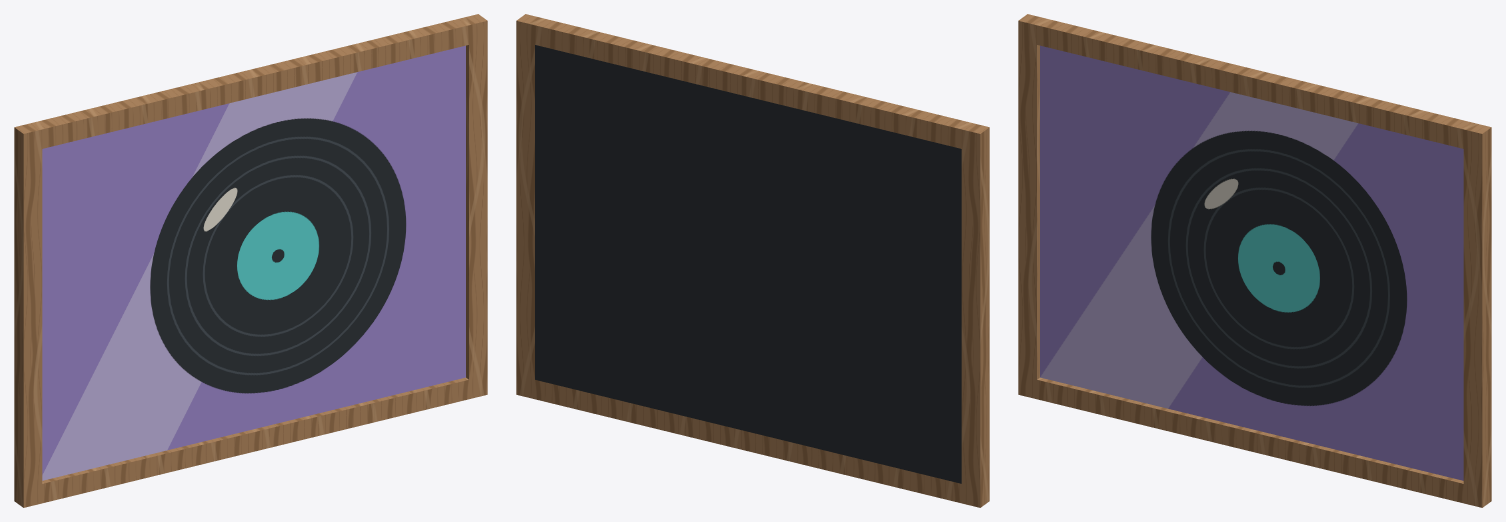
The model's file is SM_Painting_Plak.glb.
The picture shows the model from 3 angles, left to right: view 1: azimuth 30°, elevation 25°; view 2: azimuth 150°, elevation 25°; view 3: azimuth 330°, elevation 25°; orthographic projection.
Parts seen in each view (by area): view 1: SM_Painting_Plak; view 2: SM_Painting_Plak; view 3: SM_Painting_Plak.
Boxes of the visible parts, bbox=[...] form: SM_Painting_Plak: bbox=[14, 14, 487, 507]; SM_Painting_Plak: bbox=[516, 14, 989, 507]; SM_Painting_Plak: bbox=[1018, 14, 1491, 507].
Size of the model in its own units: 0.87 by 0.67 by 0.03.
3 materials, 3 textured.
